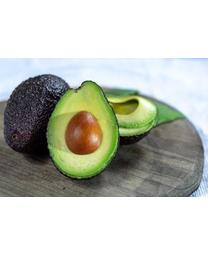avocado: (46, 79, 119, 181), (3, 73, 67, 157), (87, 90, 158, 145)
